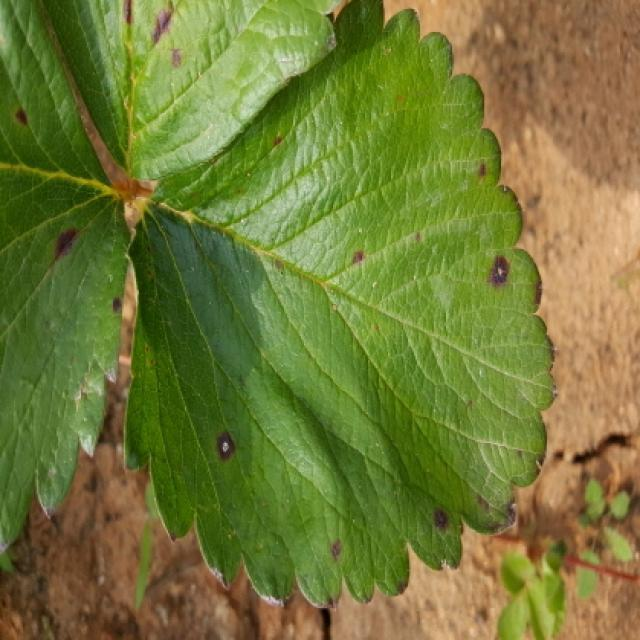Leaf Spot: (122, 0, 559, 610), (43, 0, 347, 185)
